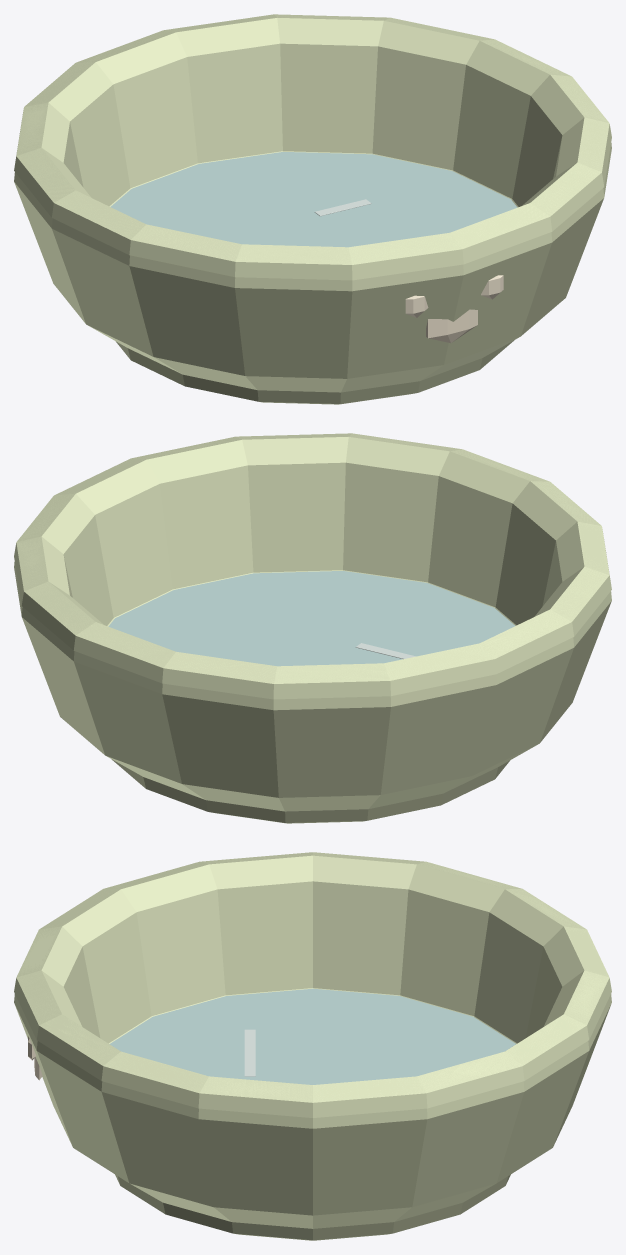
The model's file is crafted-cat-water-4-1.glb.
3 views of the same model, one above another, from view 1: azimuth 30°, elevation 25°; view 2: azimuth 150°, elevation 25°; view 3: azimuth 270°, elevation 25° (orthographic).
Visible parts, largest first — view 1: ceramic-bowl, water-level, glazed-rim, foot-ring, paw-pad; view 2: ceramic-bowl, water-level, glazed-rim, foot-ring; view 3: ceramic-bowl, water-level, glazed-rim, foot-ring, water-glint.
Part boxes in pixels (<box>): ceramic-bowl: <box>14,14,611,392</box>; water-level: <box>111,152,517,247</box>; glazed-rim: <box>14,14,611,280</box>; foot-ring: <box>116,340,514,404</box>; paw-pad: <box>426,309,477,343</box>; ceramic-bowl: <box>14,433,611,811</box>; water-level: <box>108,571,514,666</box>; glazed-rim: <box>14,433,611,699</box>; foot-ring: <box>111,759,509,823</box>; ceramic-bowl: <box>14,852,611,1228</box>; water-level: <box>109,988,516,1084</box>; glazed-rim: <box>14,852,611,1117</box>; foot-ring: <box>115,1174,510,1240</box>; water-glint: <box>244,1029,255,1076</box>.
Size of the model in its own units: 0.76 by 0.265 by 0.76.
